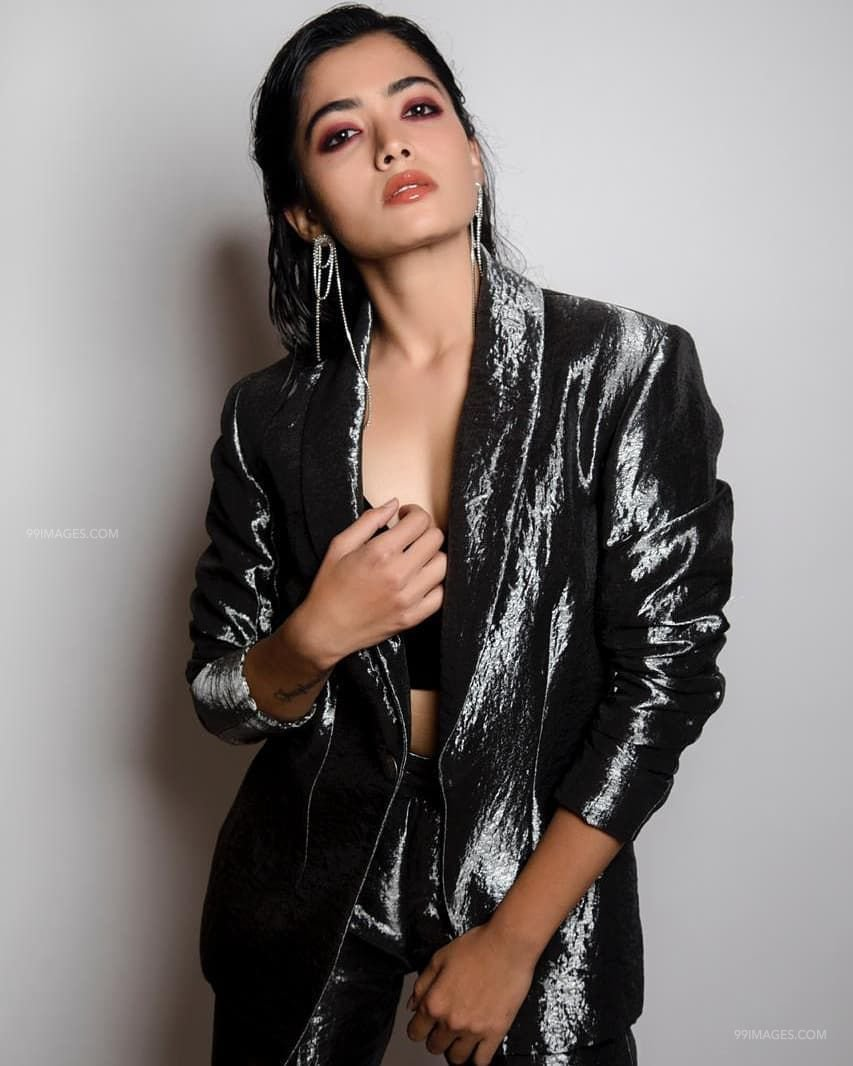noMask: (216, 11, 505, 341)
